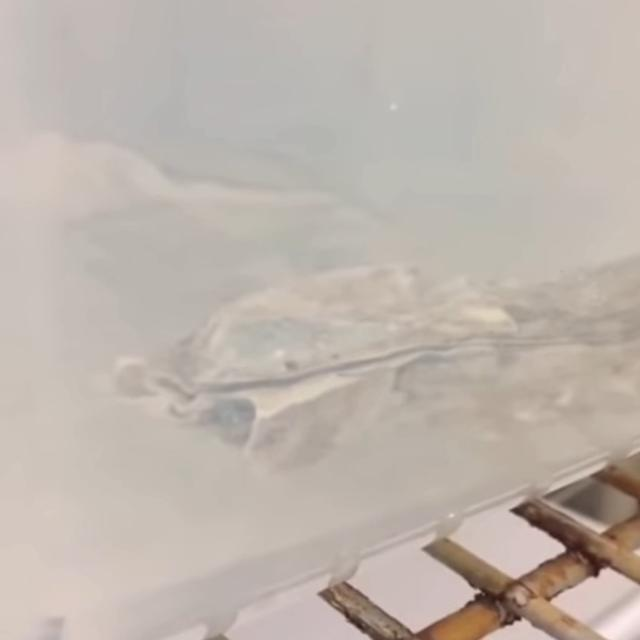Oyster-Closed: (106, 258, 640, 473)
Oyster-Indeterminate: (50, 122, 354, 245)
